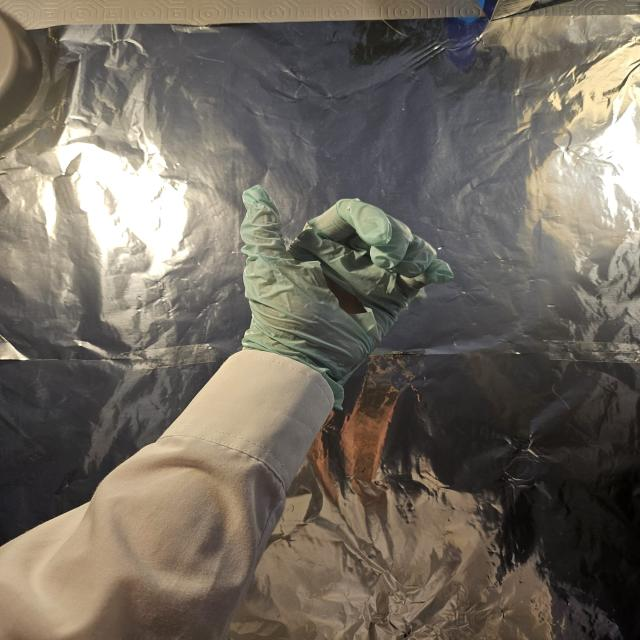gloves_damaged: (232, 182, 456, 409)
